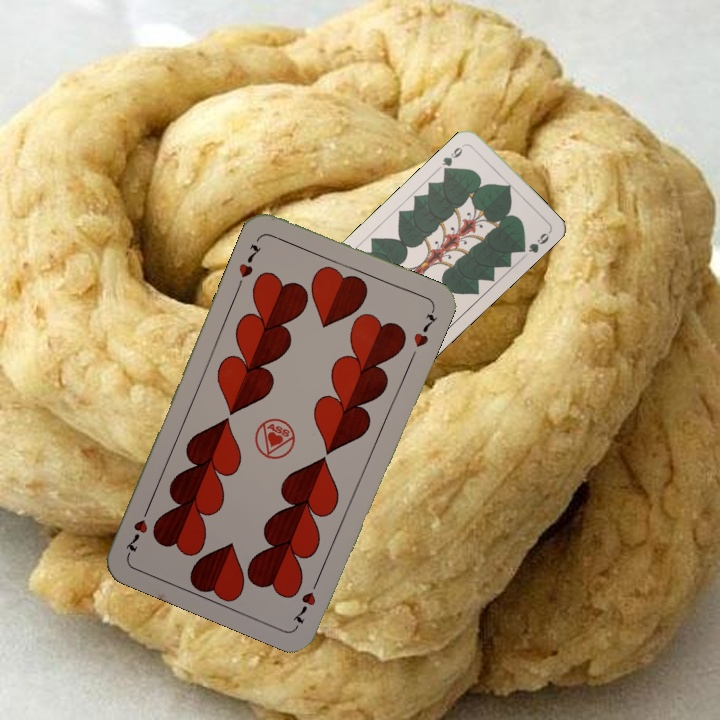G9: (438, 140, 469, 175)
H7: (288, 572, 323, 627), (235, 240, 264, 280)
